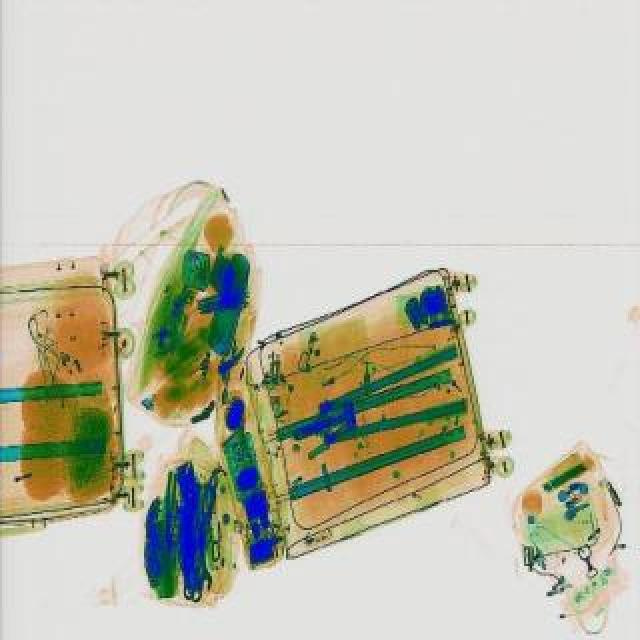scissors: (174, 458, 198, 602)
